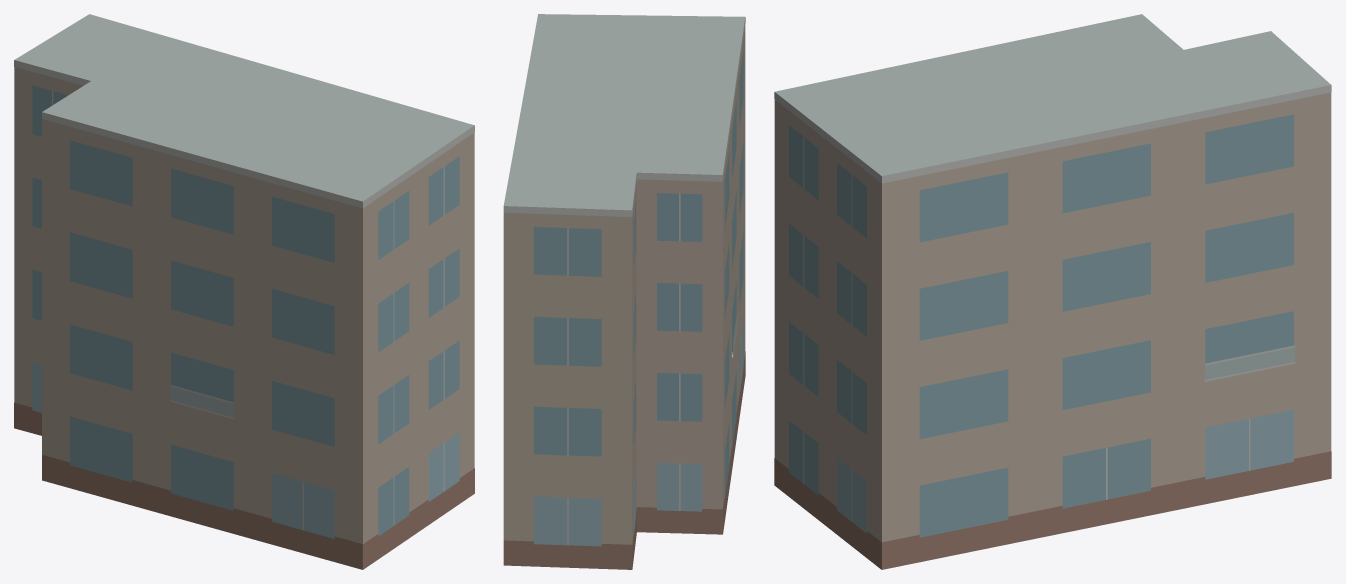
File: survey-upis-32746338.glb
3 renders of one model, left to right at view 1: azimuth 30°, elevation 25°; view 2: azimuth 150°, elevation 25°; view 3: azimuth 270°, elevation 25°, orthographic. The views are drawn at different scales.
Parts seen in each view (by area): view 1: survey-upis-32746338.tmp; view 2: survey-upis-32746338.tmp; view 3: survey-upis-32746338.tmp.
Boxes of the visible parts, x1=… form: survey-upis-32746338.tmp: x1=14, y1=14, x2=474, y2=569; survey-upis-32746338.tmp: x1=503, y1=14, x2=745, y2=569; survey-upis-32746338.tmp: x1=774, y1=14, x2=1331, y2=569.
Size of the model in its own units: 11.59 by 13.1 by 16.81.
